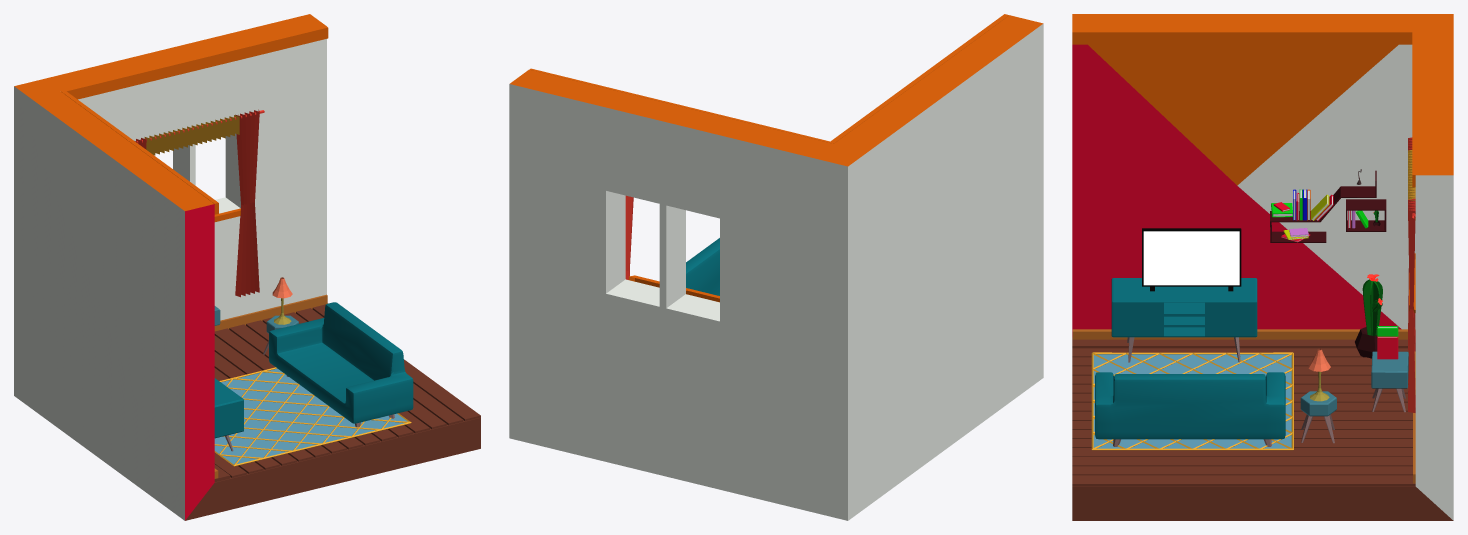
File: room.glb
The picture shows the model from 3 angles, left to right: view 1: azimuth 30°, elevation 25°; view 2: azimuth 150°, elevation 25°; view 3: azimuth 270°, elevation 25°; orthographic projection. The views are drawn at different scales.
Visible parts, largest first — view 1: Object_8, Object_6, Object_21, Object_7, Object_9, Object_17, Object_11, Object_15, Object_19, Object_14, Object_31, Object_10; view 2: Object_8, Object_7, Object_11, Object_21; view 3: Object_6, Object_9, Object_8, Object_7, Object_21, Object_31, Object_11, Object_17, Object_39, Object_19, Object_10, Object_56 (+7 smaller).
Boxes of the visible parts, x1,y1,x2,y2 form: Object_8: (14,39,326,520); Object_6: (185,304,480,520); Object_21: (269,302,413,423); Object_7: (14,14,326,210); Object_9: (185,204,214,520); Object_17: (214,368,407,464); Object_11: (61,26,328,214); Object_15: (135,109,264,297); Object_19: (214,367,411,466); Object_14: (144,114,239,155); Object_31: (214,378,243,438); Object_10: (214,294,327,478); Object_8: (509,23,1043,520); Object_7: (510,15,1043,166); Object_11: (529,14,1009,143); Object_21: (686,238,719,295); Object_6: (1072,337,1453,520); Object_9: (1072,44,1401,336); Object_8: (1237,44,1453,520); Object_7: (1072,14,1453,185); Object_21: (1095,372,1285,439); Object_31: (1111,278,1257,337); Object_11: (1072,30,1415,187); Object_17: (1093,354,1291,448); Object_39: (1143,231,1239,285); Object_19: (1091,352,1293,450); Object_10: (1072,329,1415,483); Object_56: (1270,170,1386,242).
Bounding box in the file's own units: 1 × 1 × 1.
